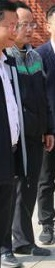boots: (13, 244, 51, 256), (0, 250, 21, 267)
vest: (28, 99, 55, 219)
